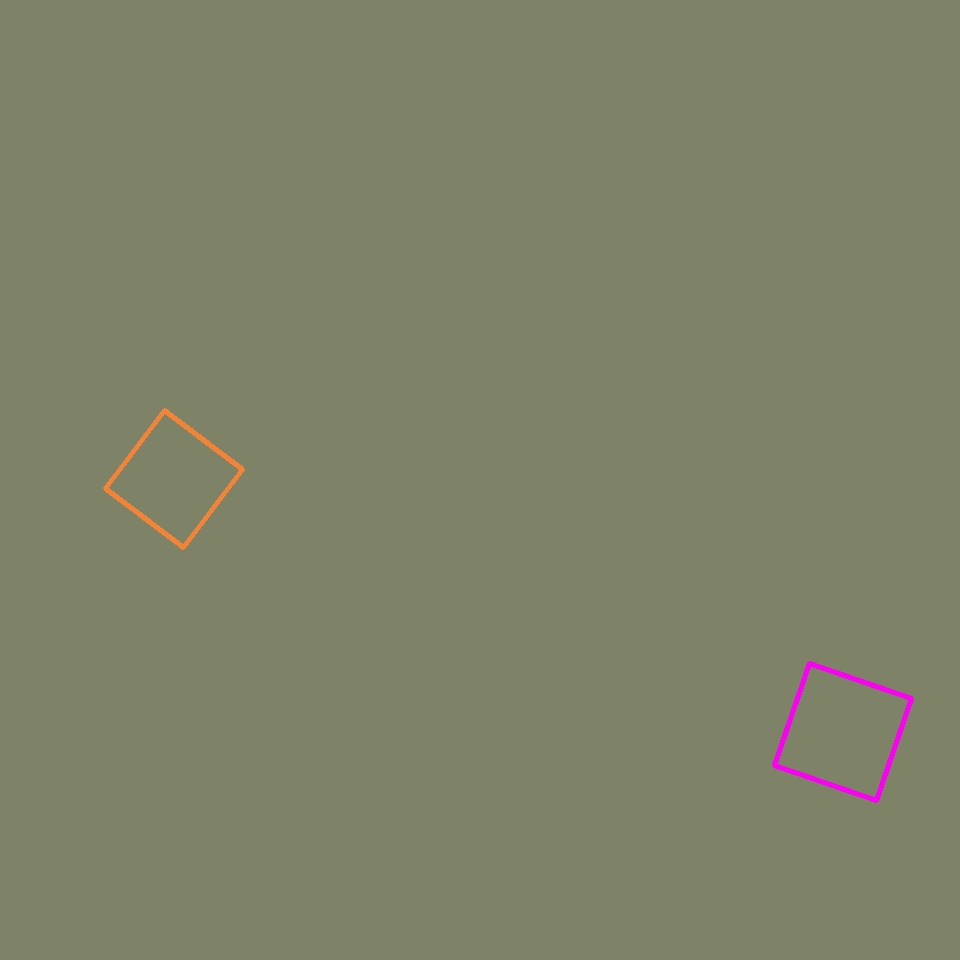square: (106, 410, 242, 548), (775, 664, 912, 800)
